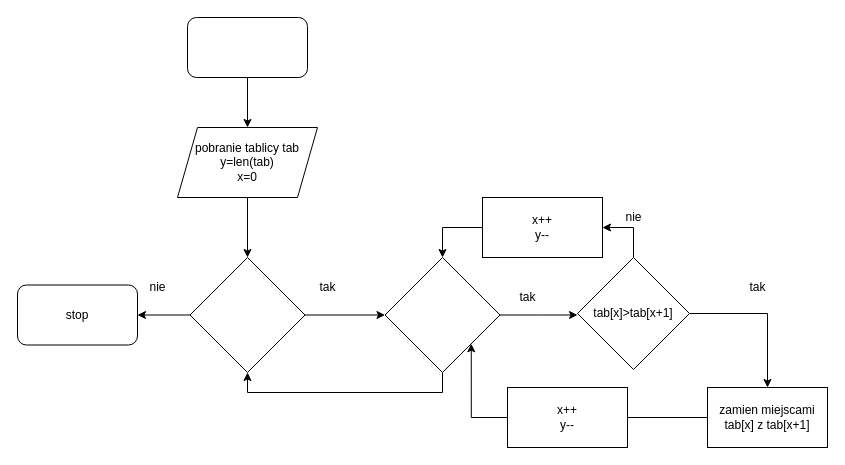
The diagram is 845 pixels wide and 465 high, and some of its shapes have lost their labels. Here are the shapes that lost their labels. From the top down, the centre of each, then its label:
(x=247, y=47): start
(x=247, y=314): y>0
(x=442, y=314): x<y-1
